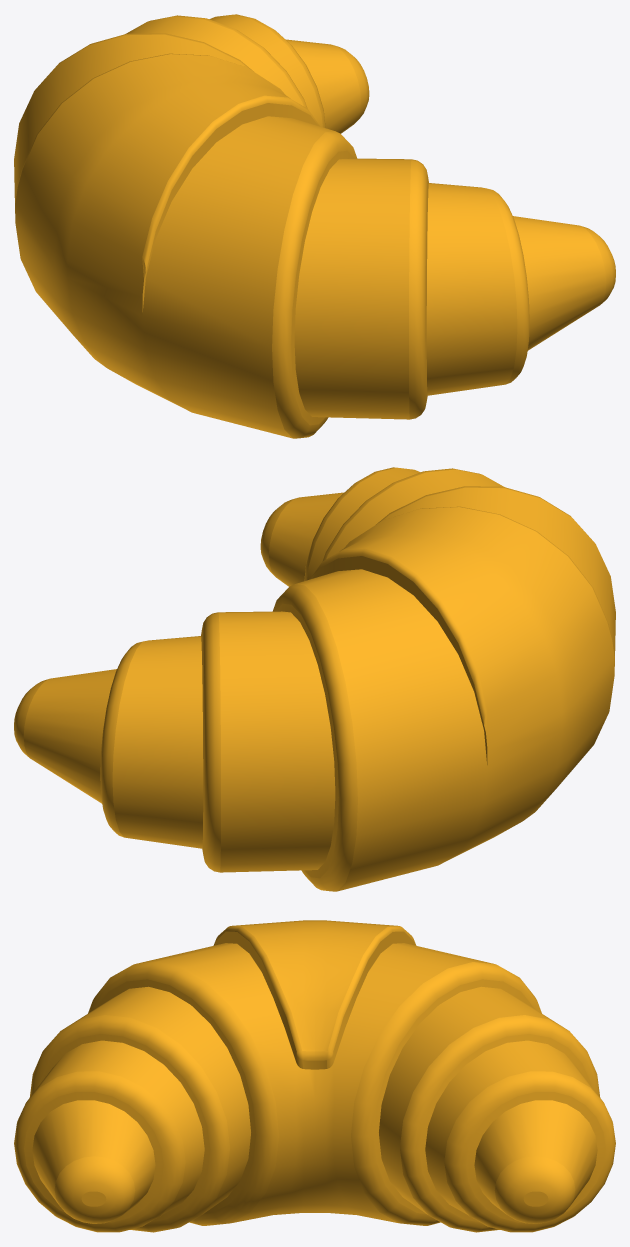
File: croissant.fbx
3 views of the same model, one above another, from view 1: azimuth 30°, elevation 25°; view 2: azimuth 150°, elevation 25°; view 3: azimuth 270°, elevation 25° (orthographic). The views are drawn at different scales.
Parts seen in each view (by area): view 1: croissant; view 2: croissant; view 3: croissant.
Part boxes in pixels (x1,y1,x2,y2): croissant: (14, 14, 615, 438); croissant: (14, 467, 615, 891); croissant: (14, 920, 615, 1232).
Size of the model in its own units: 59.18 by 40.41 by 82.41.
